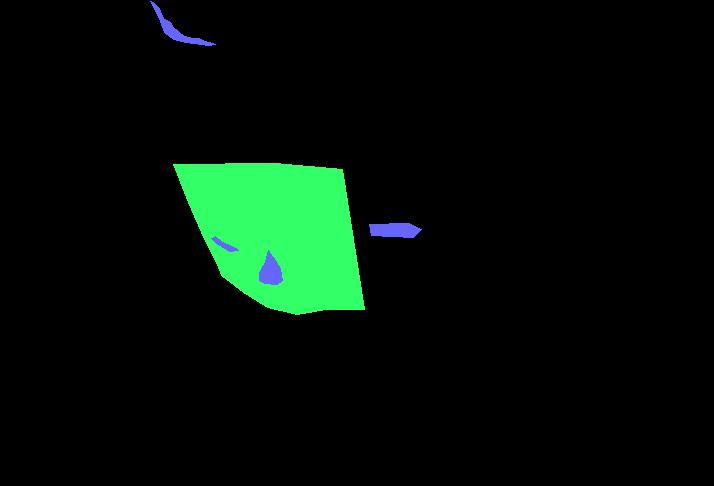Broken part: (173, 163, 364, 314)
Scratch: (150, 1, 215, 45), (228, 209, 260, 254), (259, 250, 282, 284), (369, 223, 421, 237), (244, 210, 303, 222), (199, 213, 218, 239), (211, 236, 238, 251)
